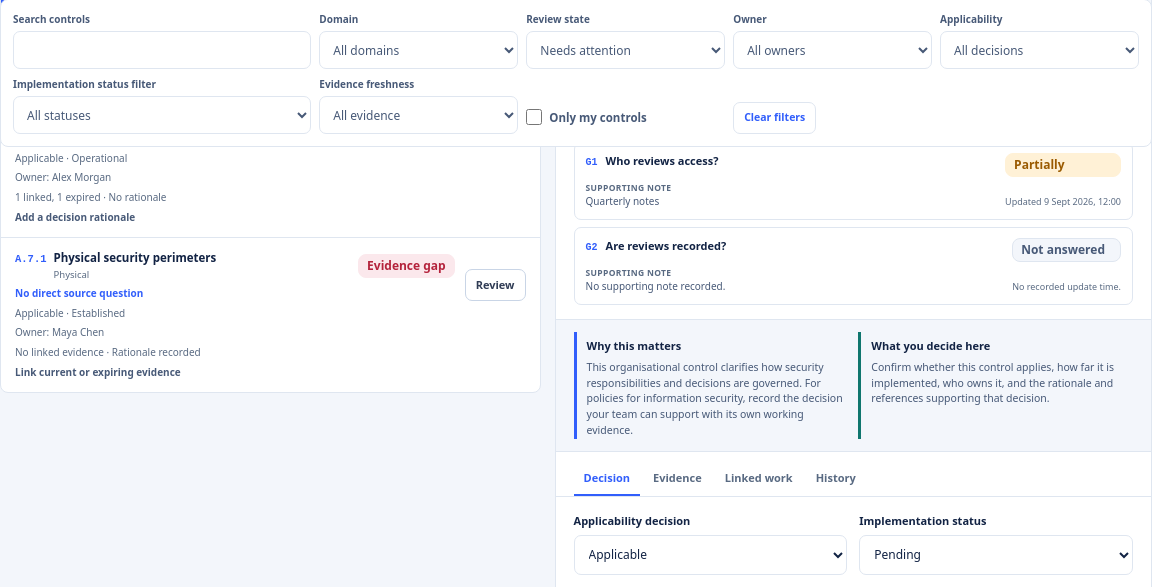
it: SoaReviewWorkspace › changes the editable detail when a queue row is selected
(page scrolled)
Click the button named "Review A.7.1 Physical security perimeters": (495, 285) [465,269,526,301]
(page scrolled)
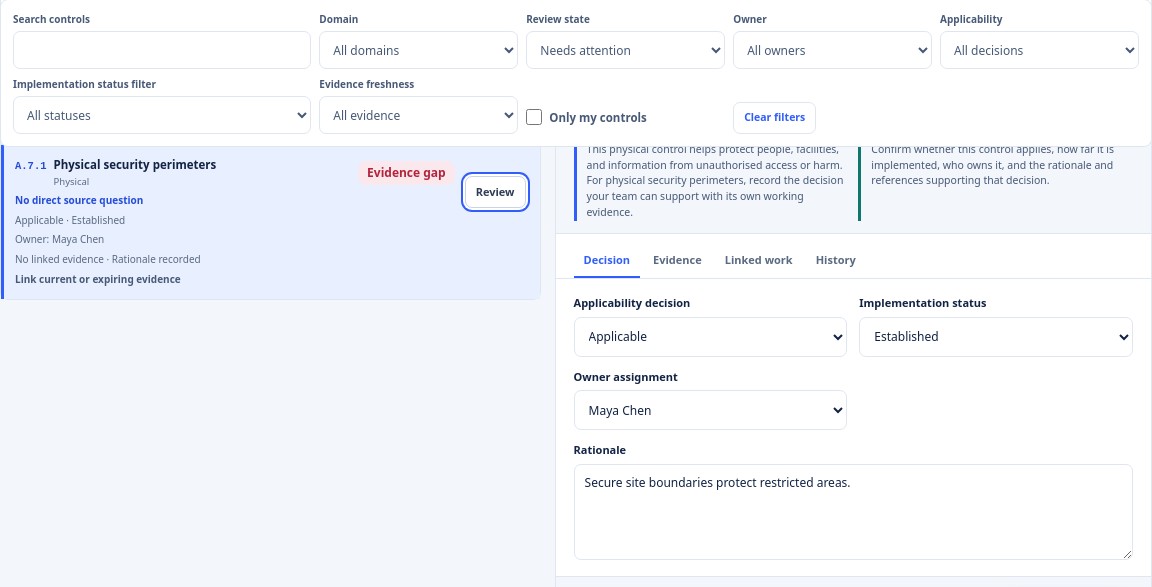
Expected: the text box labelled "Rationale" holds "Secure site boundaries protect restricted areas.", [574,464,1133,560]
